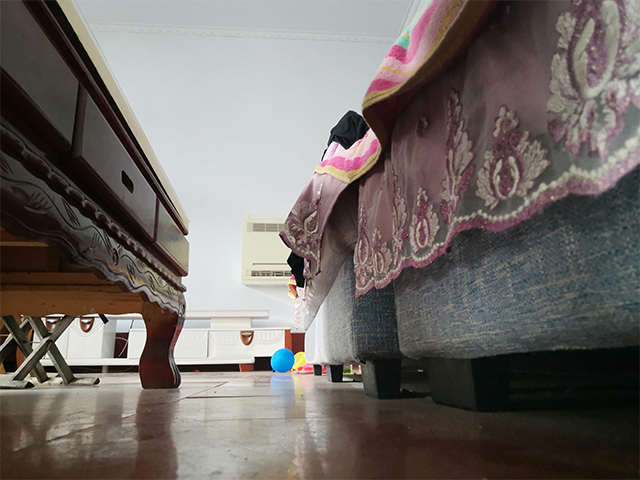cabinet: (27, 307, 294, 374)
sofa: (274, 1, 640, 415)
table: (1, 1, 191, 390)
